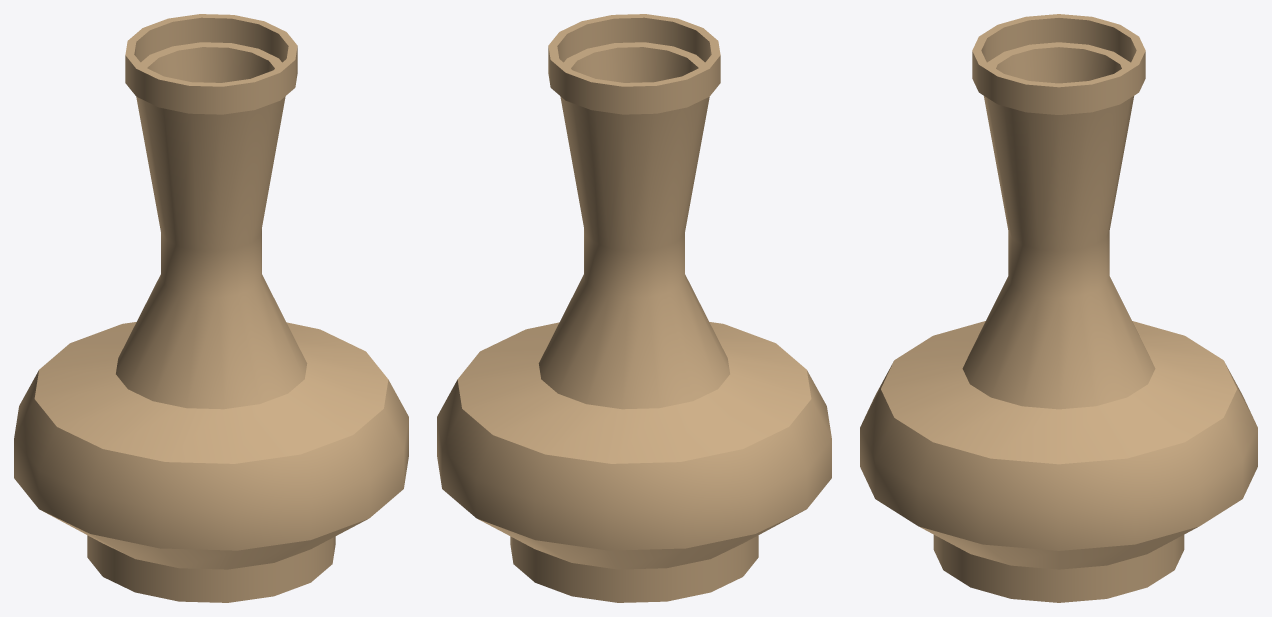
File: SM_pottery_arabian_003 1.fbx
The picture shows the model from 3 angles, left to right: view 1: azimuth 30°, elevation 25°; view 2: azimuth 150°, elevation 25°; view 3: azimuth 270°, elevation 25°; orthographic projection.
Visible parts, largest first — view 1: Cylinder013; view 2: Cylinder013; view 3: Cylinder013.
Boxes of the visible parts, <box> form: Cylinder013: <box>14,14,408,602</box>; Cylinder013: <box>437,14,831,602</box>; Cylinder013: <box>860,14,1257,602</box>.
Bounding box in the file's own units: 20.75 × 20.75 × 28.74.
